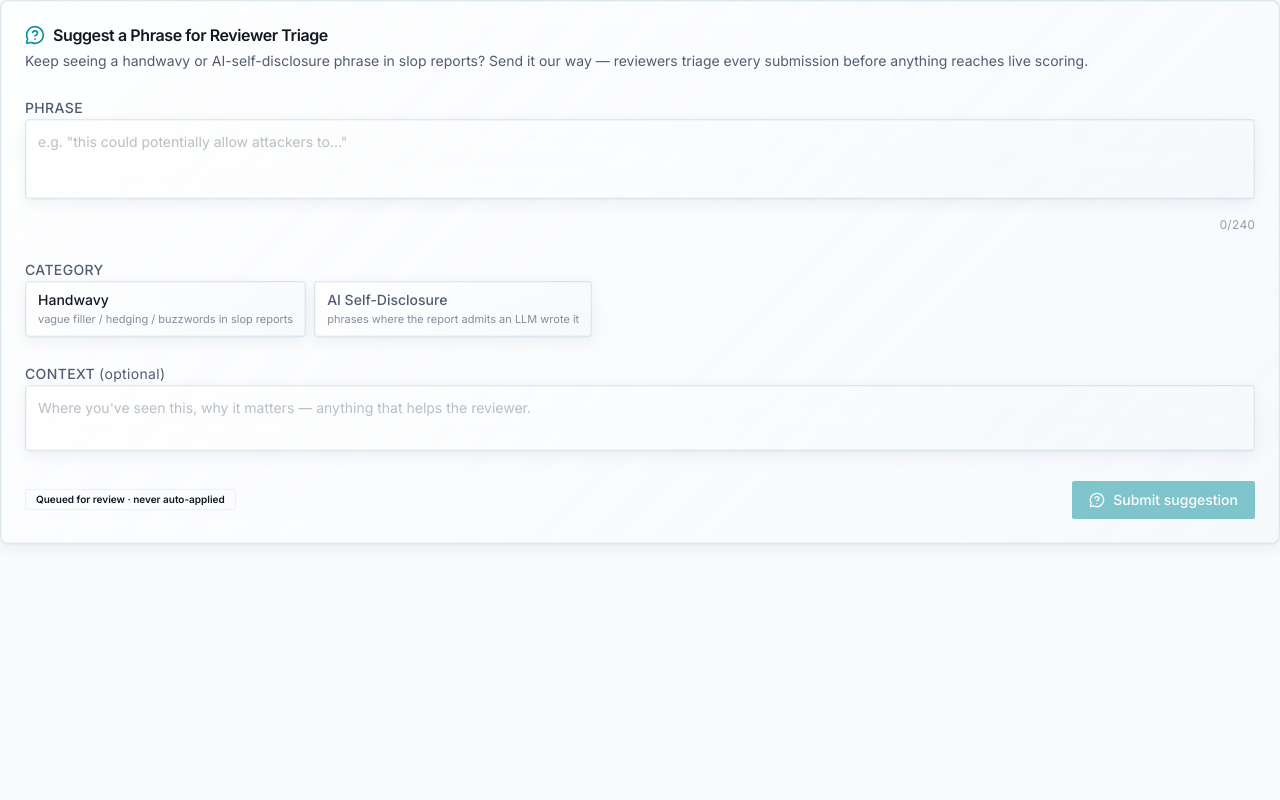
Scenario: PhraseSuggestionForm › surfaces a daily-limit cooldown banner when the server replies with 429
Type "this is a vague handwavy phrase" into the text box with test id "phrase-suggestion-text" at [640, 159], box 25,119 -> 1255,199
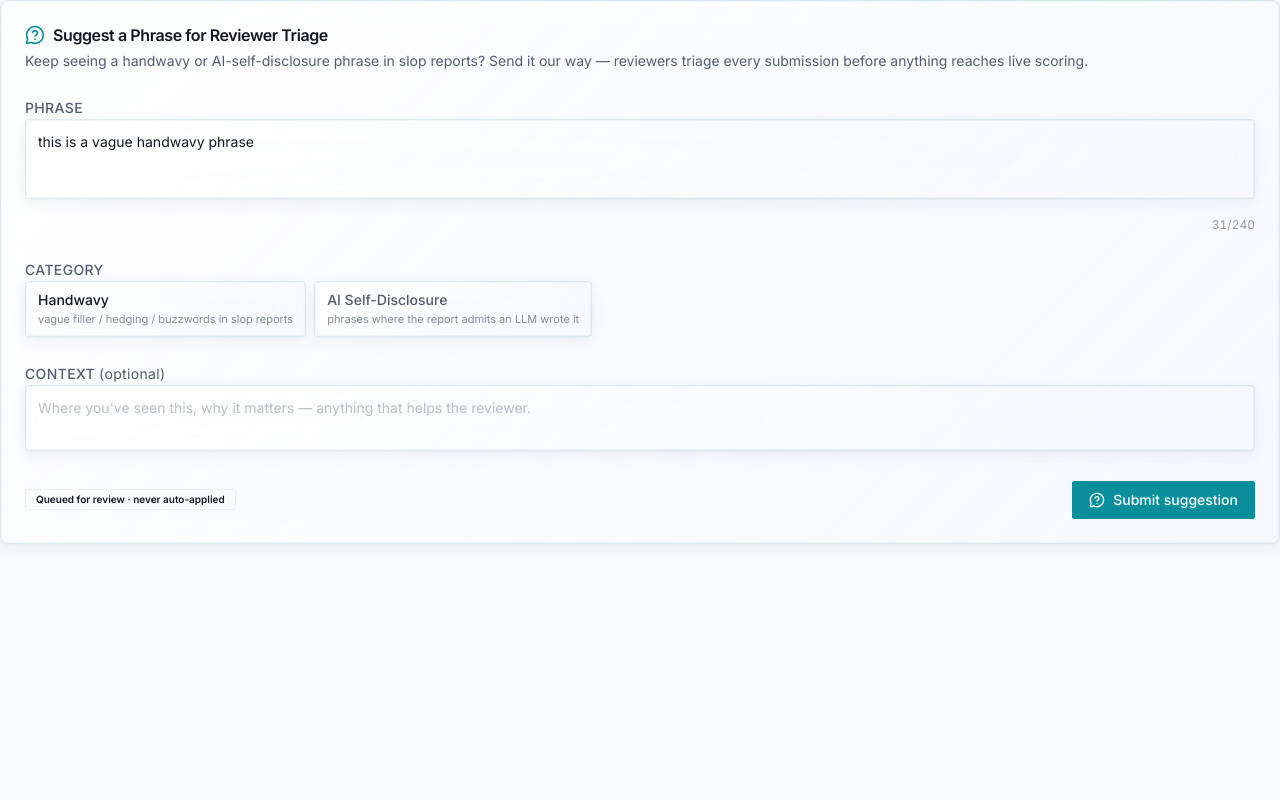
Click the button with test id "phrase-suggestion-submit" at [1164, 500], box 1072,481 -> 1255,519
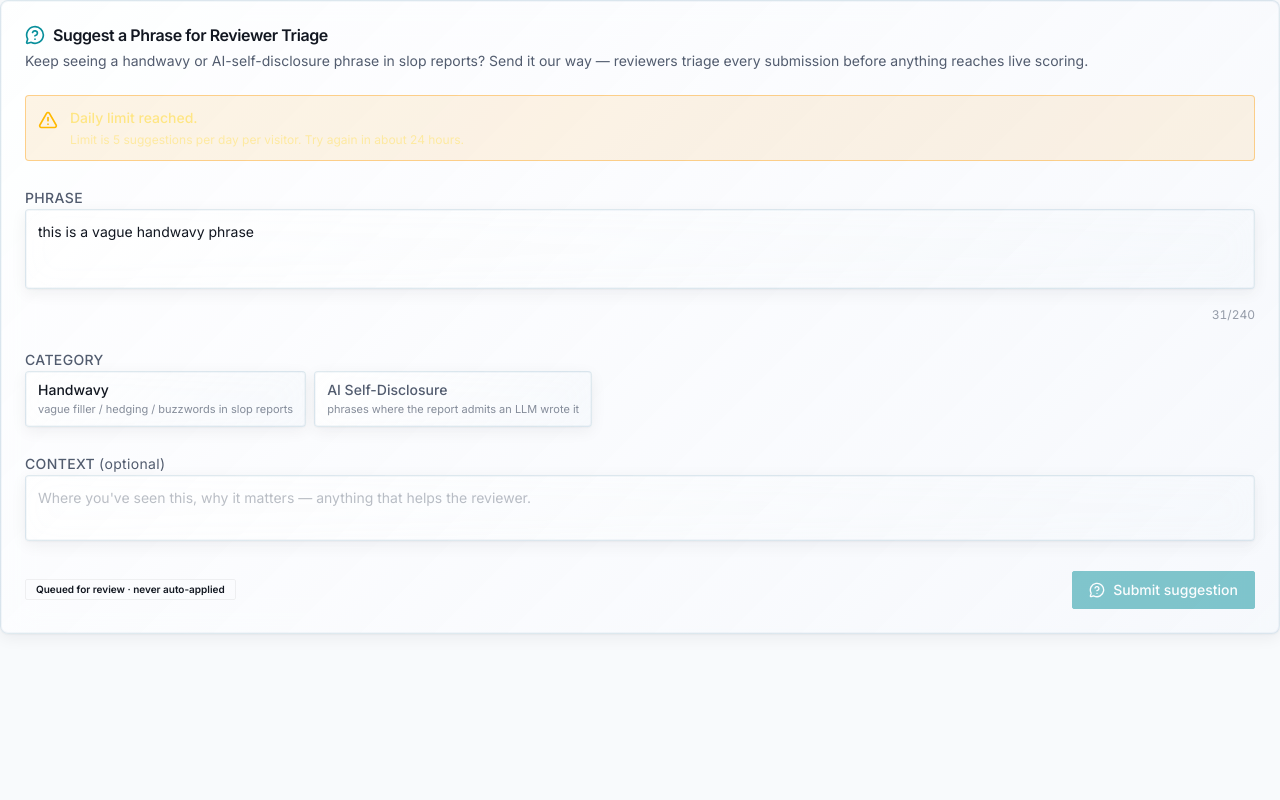
Expected: the element with test id "phrase-suggestion-cooldown" shows "Daily limit reached", 70,109 -> 198,126
Expected: the element with test id "phrase-suggestion-cooldown" shows "5 suggestions per day", 25,95 -> 1255,161
Expected: the element with test id "phrase-suggestion-cooldown" shows "24 hours", 25,95 -> 1255,161
